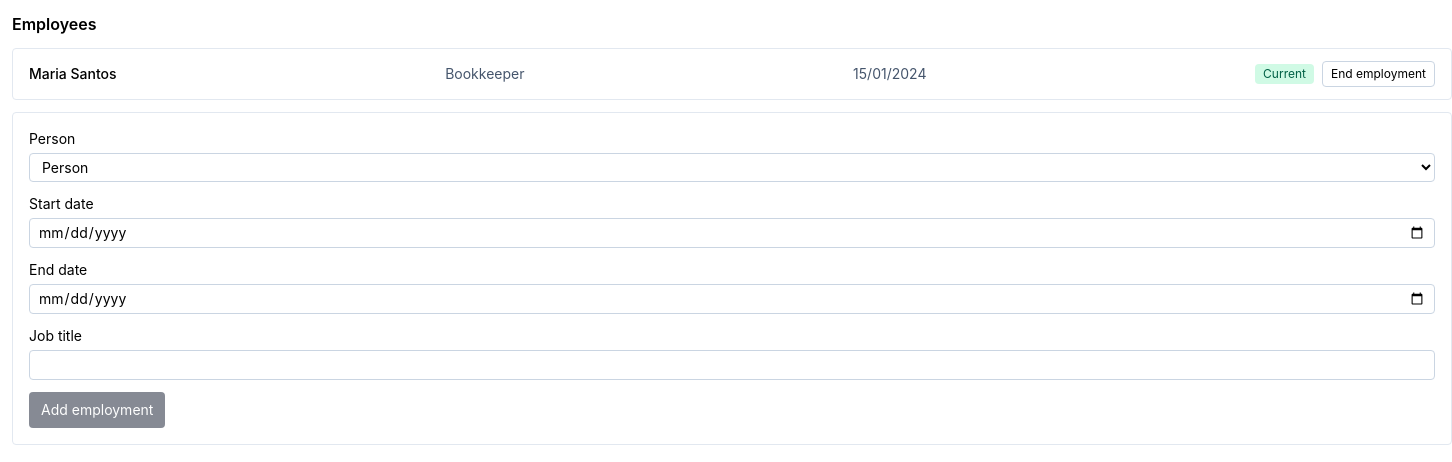
EmploymentSection › ends an open spell and reflects it in the list without a manual refresh
This screenshot has width=1452, height=462.
Click the button "End employment" at (1378, 74), box [1322, 61, 1435, 87]
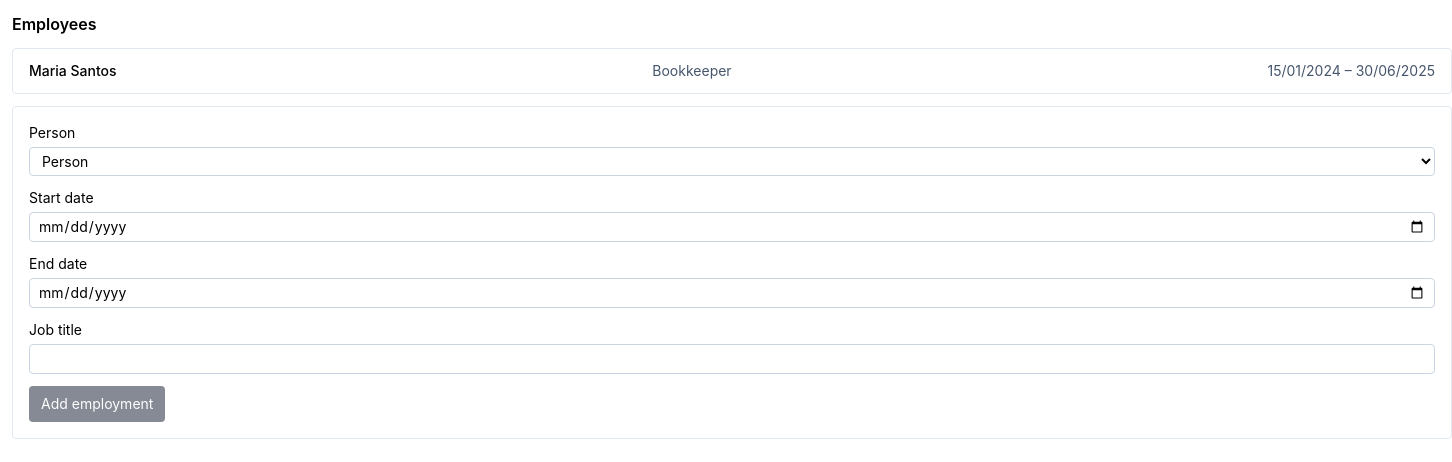
Now the button "End employment" is gone
Now the text "Current" is gone
